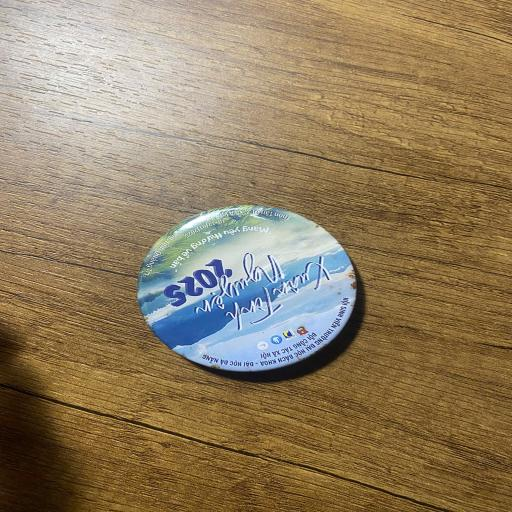HH: (136, 205, 359, 371)
